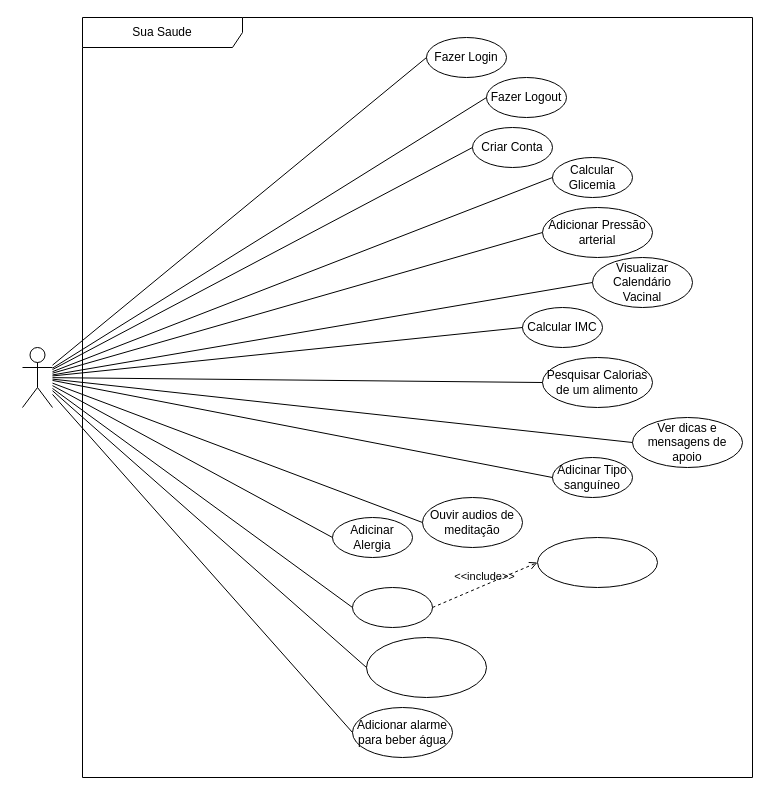
This 770x795 diagram has some shape labels left out. The shapes that lost their labels are listed below. From the top down, each one's centre as x and y in pixels, then its label:
(x=37, y=377): Usuario
(x=597, y=562): Receber notificação do remedio
(x=392, y=607): Adicionar remédio
(x=426, y=667): Ligar para números de emergência
